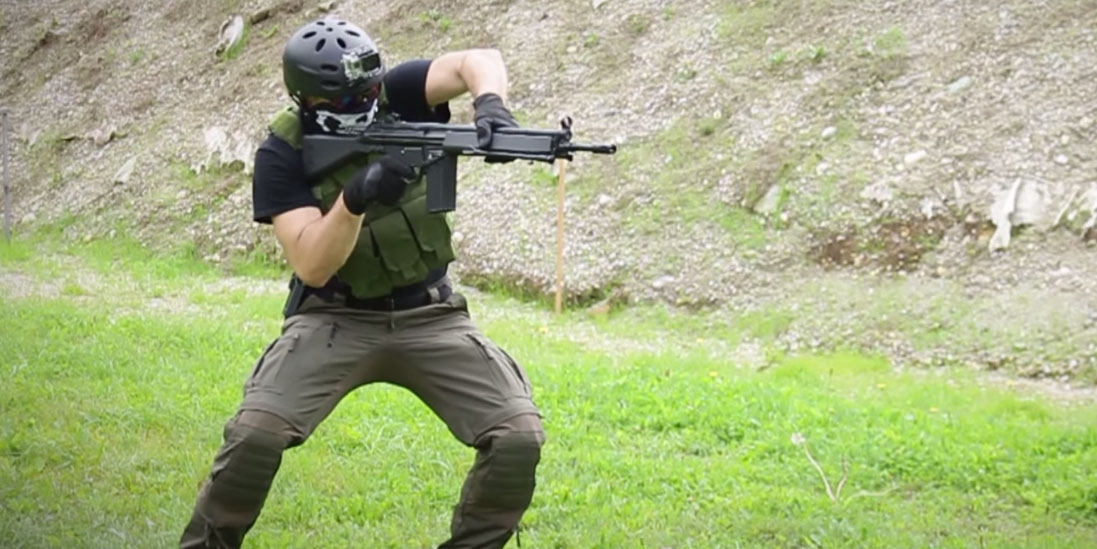Rifle: (289, 115, 622, 219)
